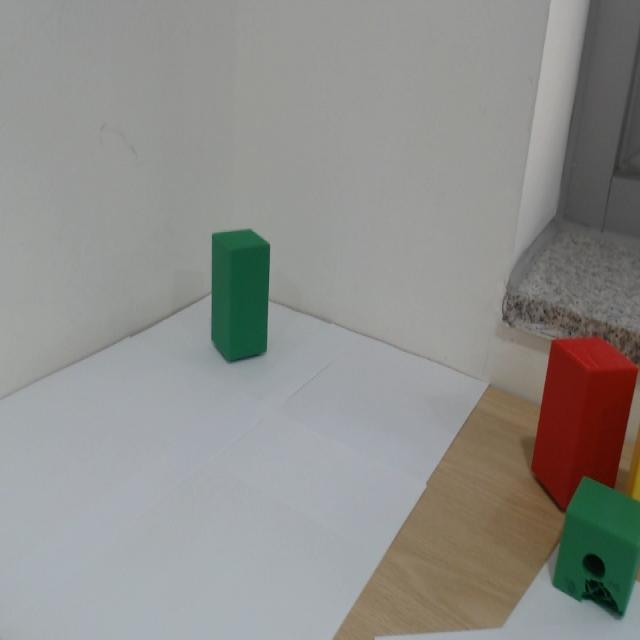cube: (196, 197, 296, 387)
